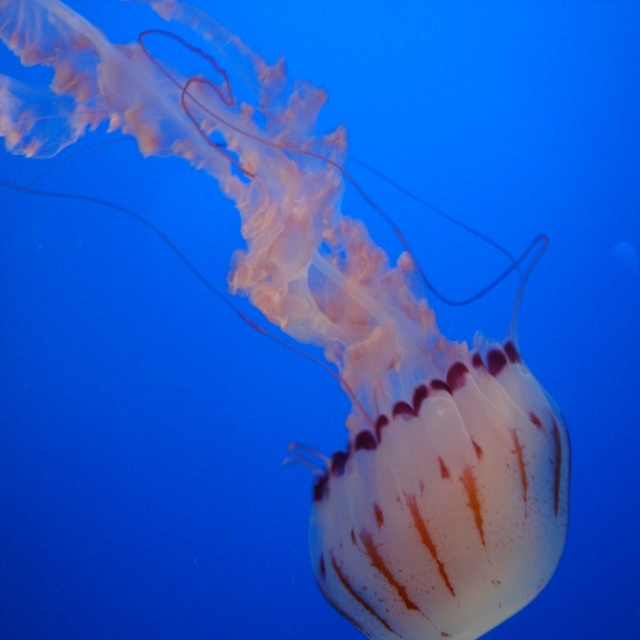Jellyfish: (0, 0, 572, 639)
